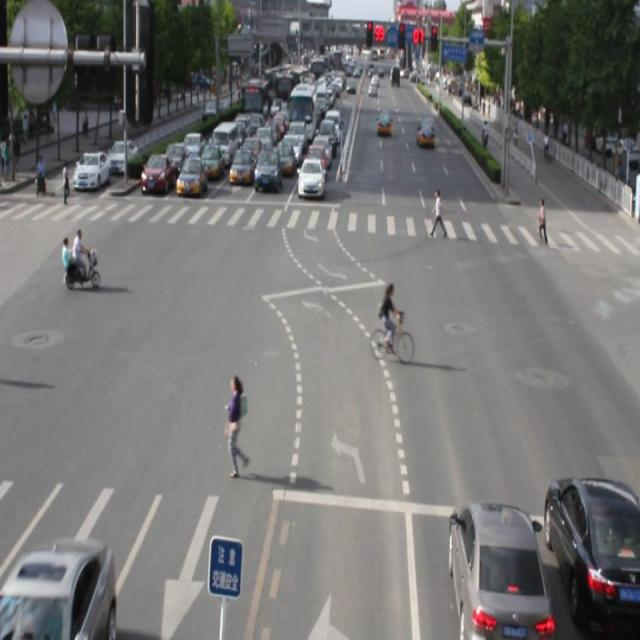car: (541, 481, 640, 631), (448, 503, 548, 640), (0, 535, 117, 640)
